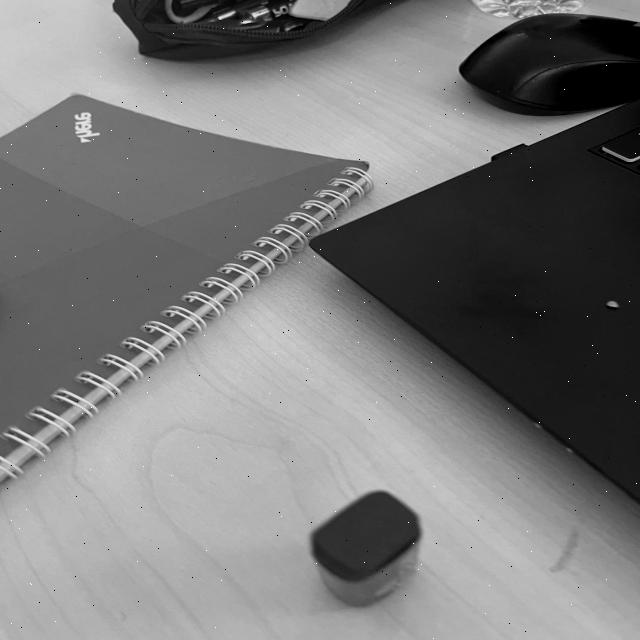eraser: (296, 476, 440, 618)
pencil: (170, 0, 378, 17)
